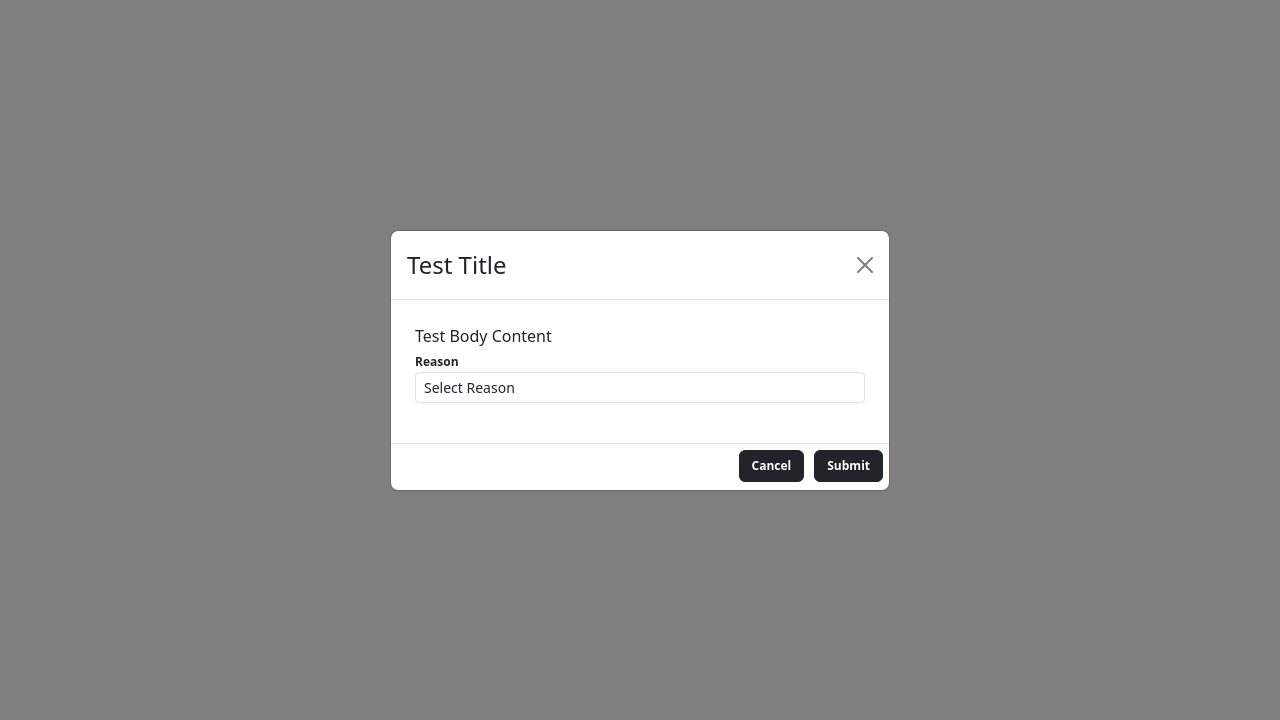
Scenario: MSOC Component › handles API error during submission
# Select a reason
Select "Urgent 48hrs" in the dropdown labelled "Reason". click: (640, 387)
box: [415,372,865,402]
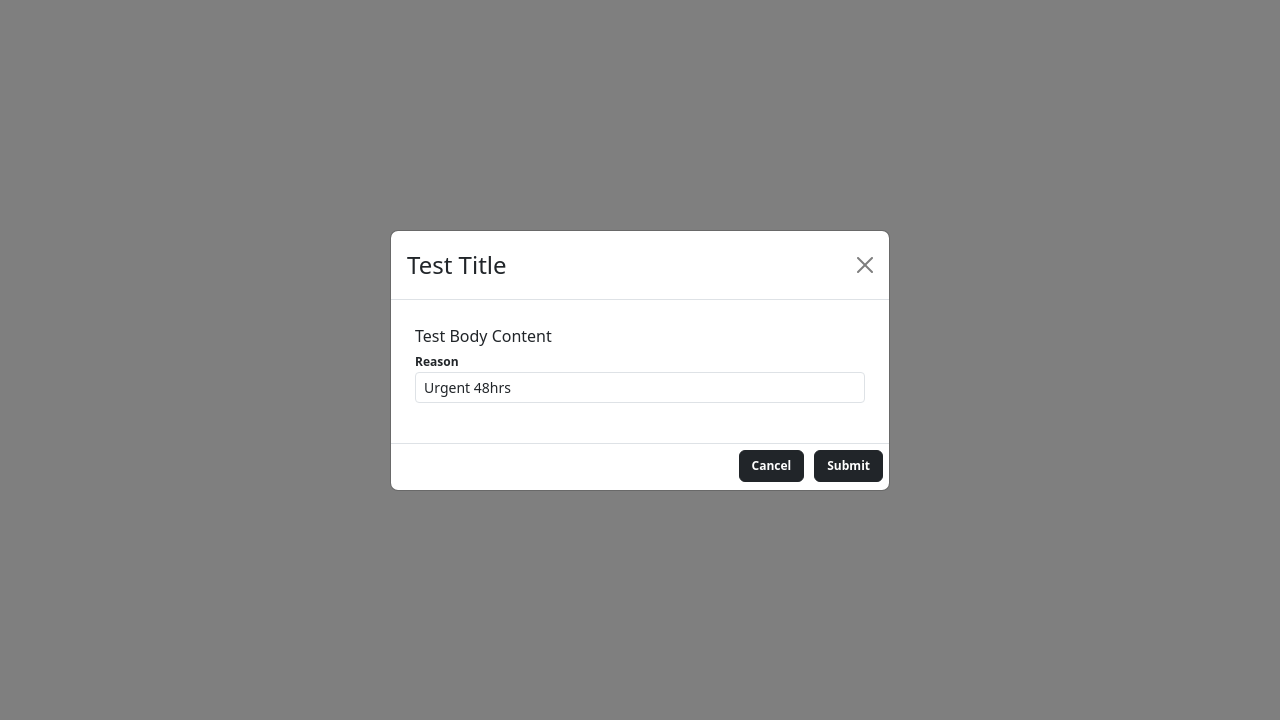
# Submit the form
Click the button "Submit". click: (849, 466)
box: [814,450,883,482]
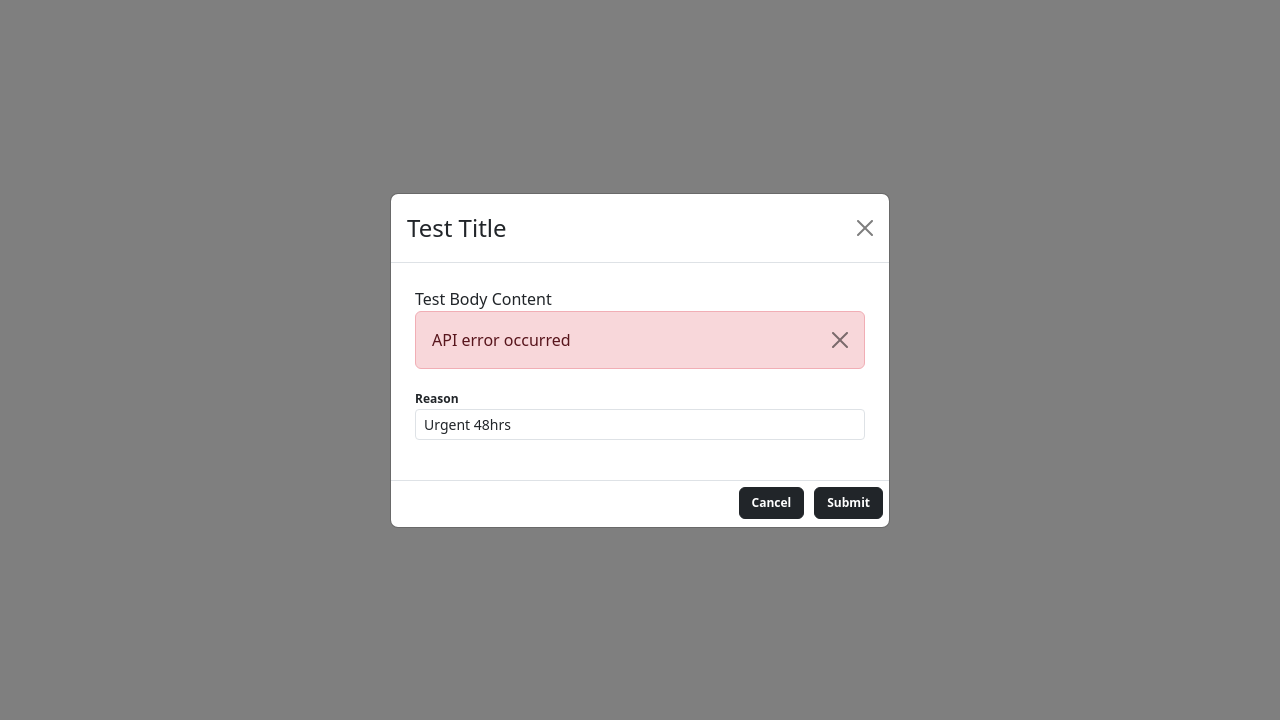
Check: the text "API error occurred" is shown, box [415,310,865,368]
